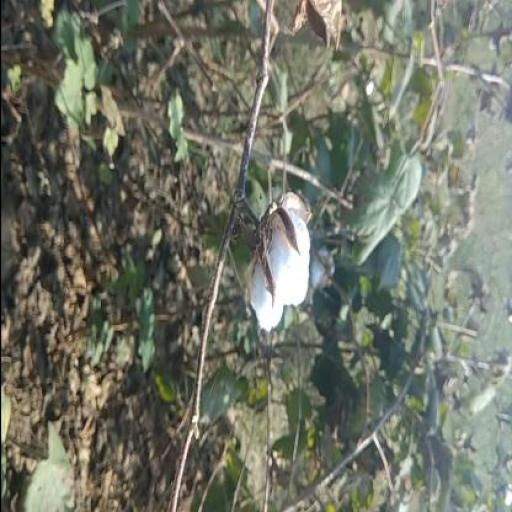cotton_ready: (223, 180, 316, 330)
